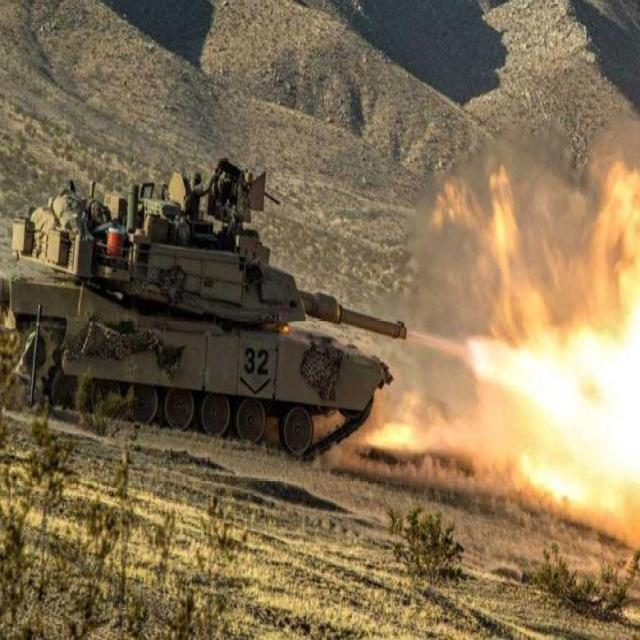Tanks: (11, 122, 380, 510)
